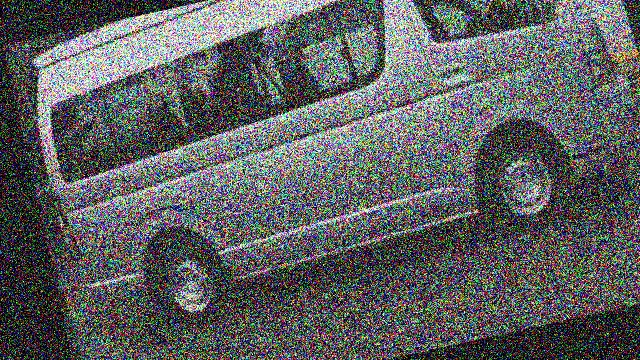van: (7, 0, 640, 360)
